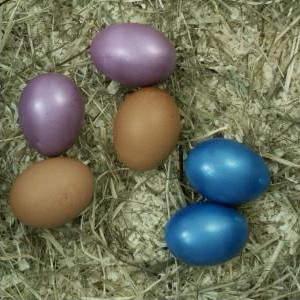egg: (9, 157, 95, 230), (113, 87, 181, 172), (186, 139, 271, 204), (19, 74, 85, 157), (165, 204, 250, 267), (92, 23, 176, 86)
